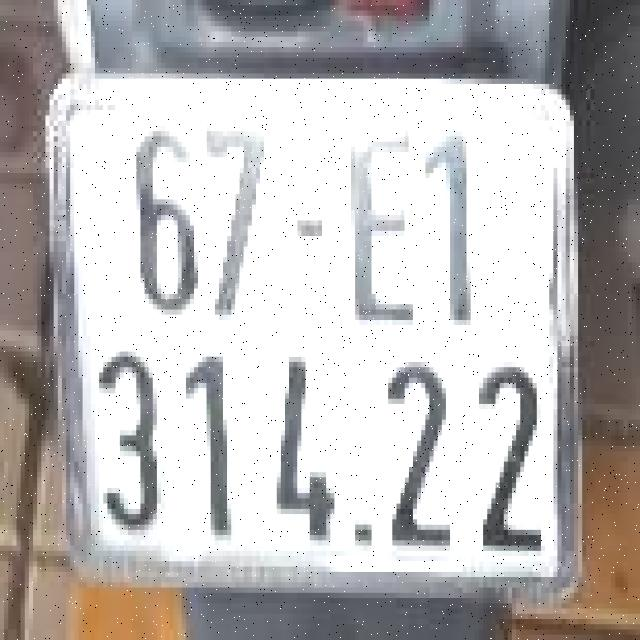1: (415, 126, 485, 336), (175, 325, 238, 551)
2: (465, 344, 551, 569), (380, 346, 454, 567)
3: (93, 328, 171, 553)
4: (260, 330, 339, 551)
6: (130, 112, 200, 322)
7: (206, 105, 272, 341)
E: (341, 118, 423, 344)
